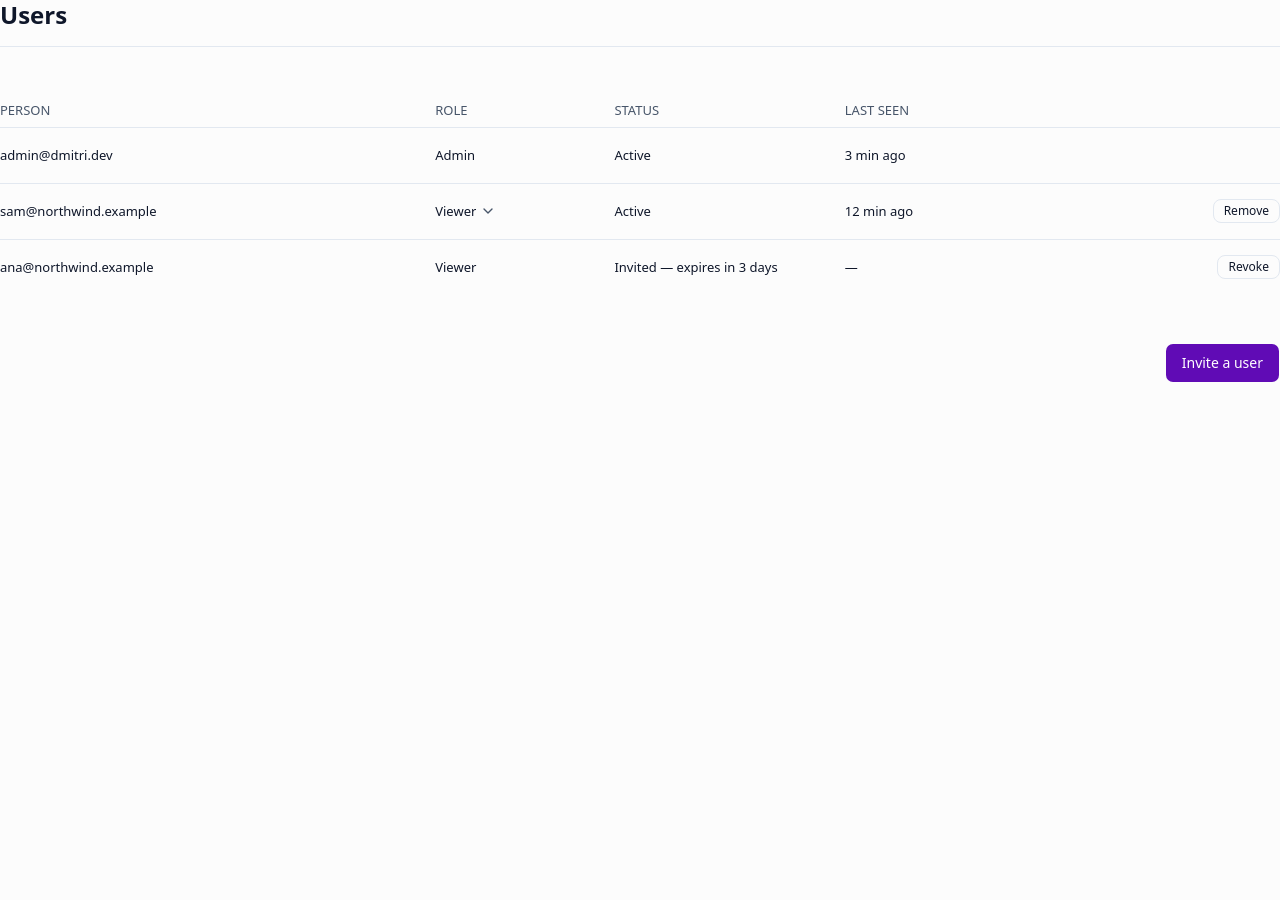
Test case: Users invite revoke › revokes the invite, raises the toast and refetches both lists
Click the button "Revoke" at (1249, 267), box [1218, 255, 1279, 279]
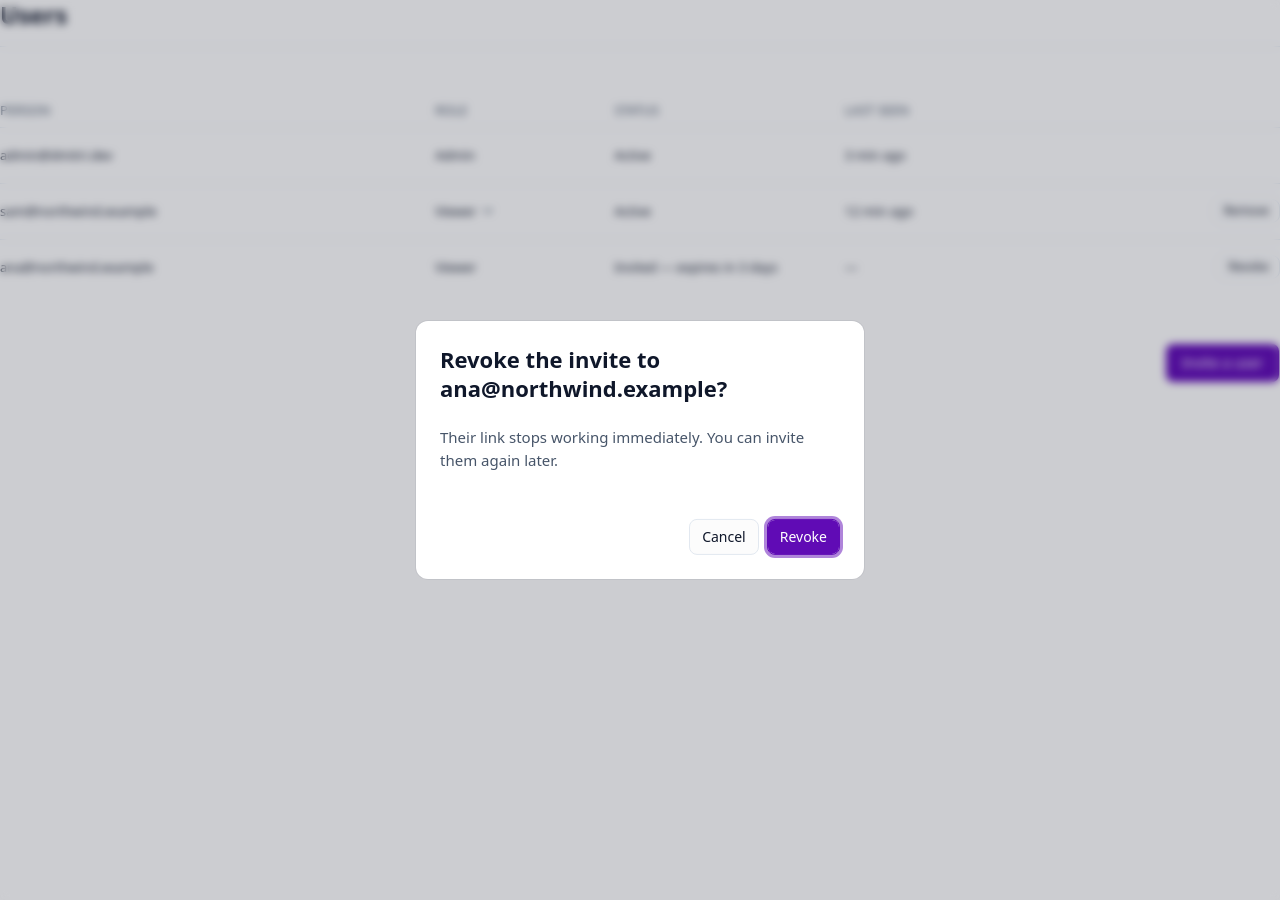
Click the button with test id "revoke-confirm" at (803, 537), box [767, 519, 840, 555]
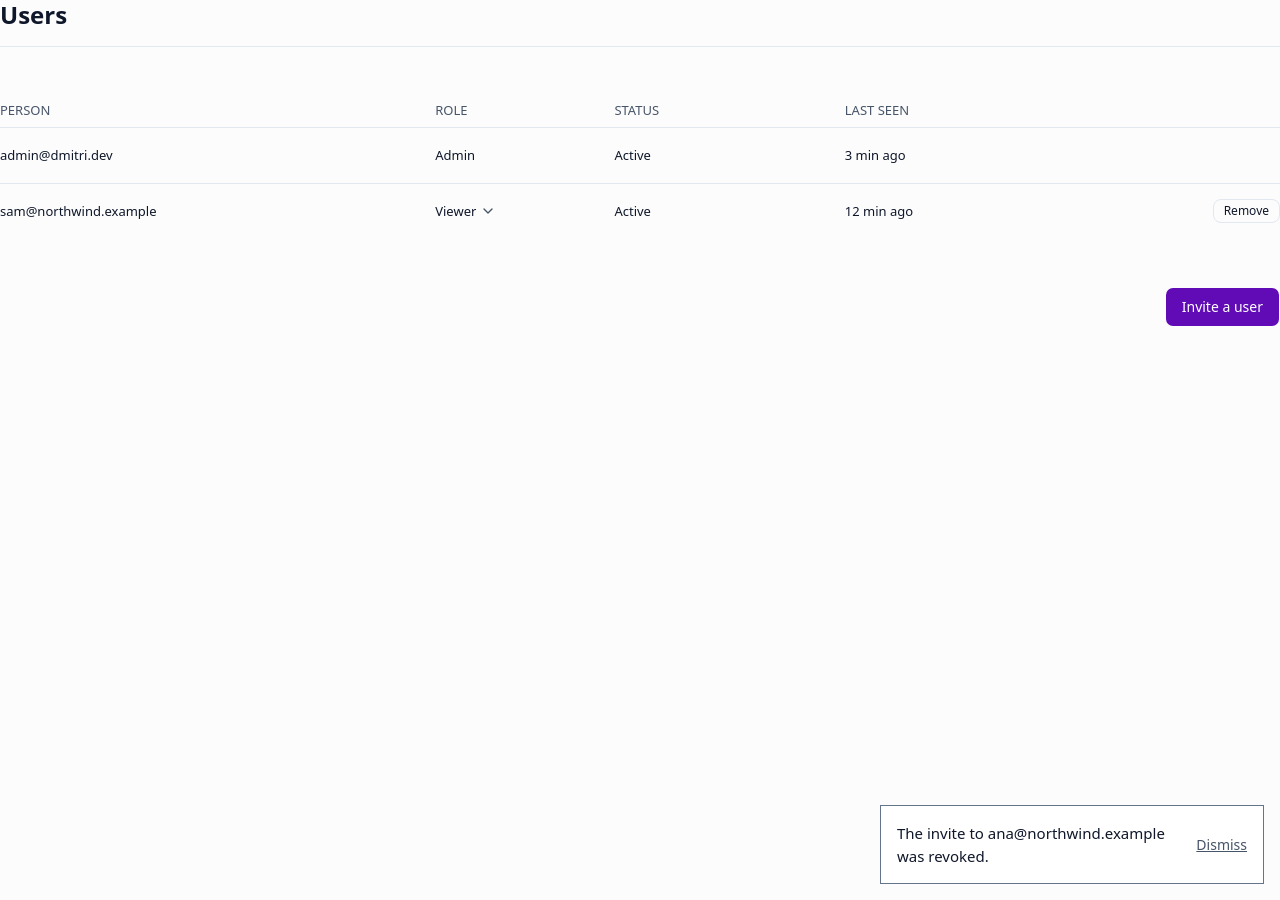
Expected: the row with test id "user-row-self" is shown, [0, 127, 1279, 183]
Expected: the dialog with test id "revoke-dialog" is gone
